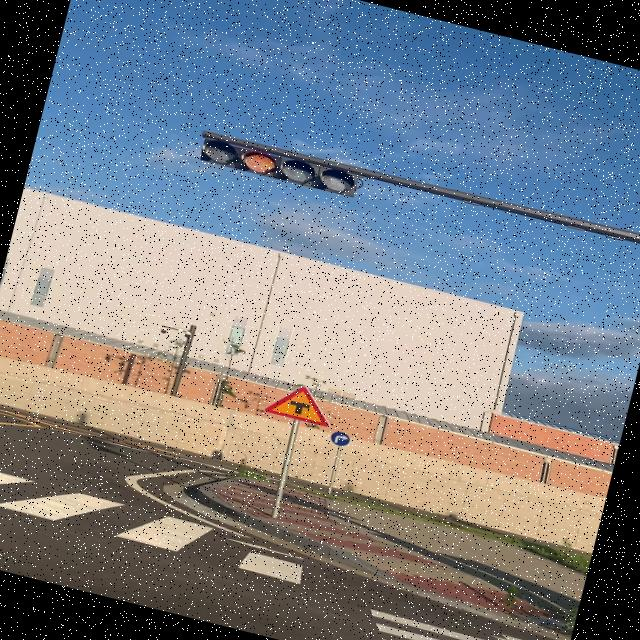yellow_light: (201, 132, 360, 198)
